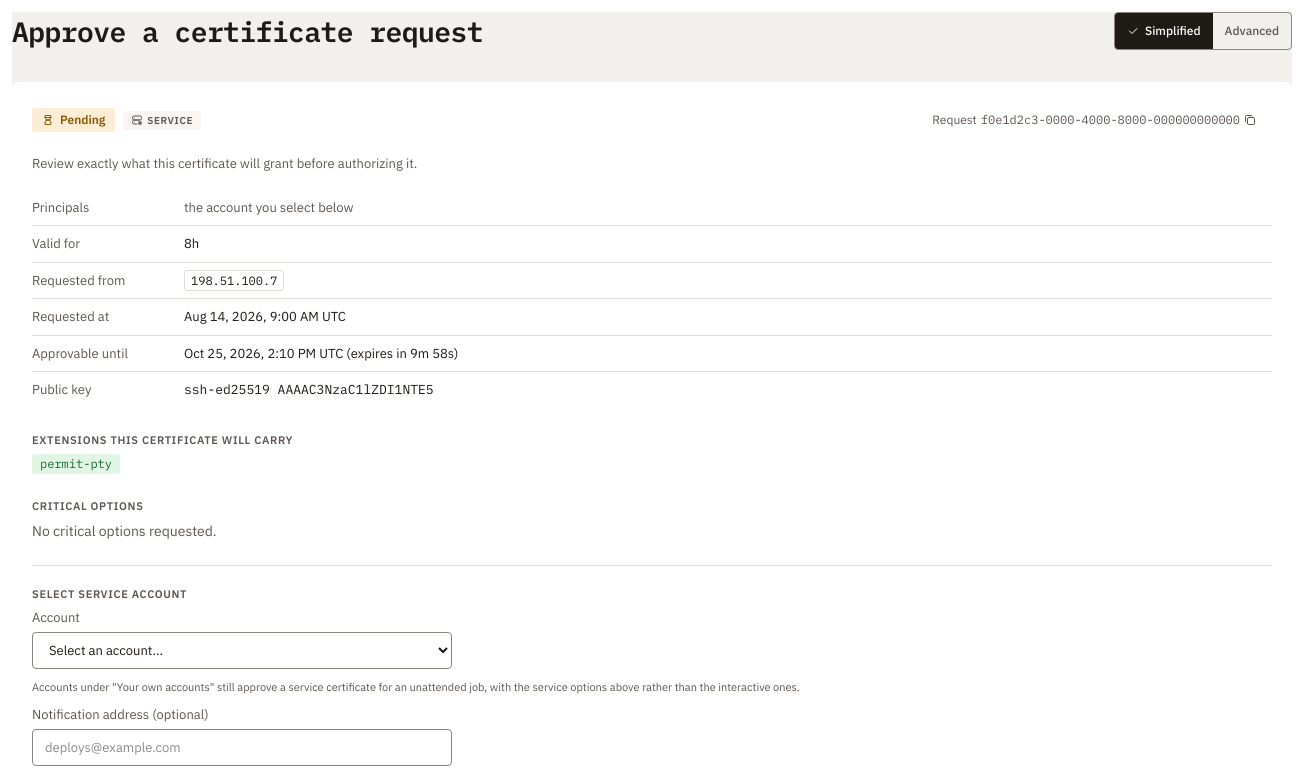
Test case: ApprovalView › service account picker › should say the certificate is not a login once an own account is chosen
This screenshot has width=1304, height=772.
Select "alice" in the dropdown at (242,650), box [32,632,452,668]
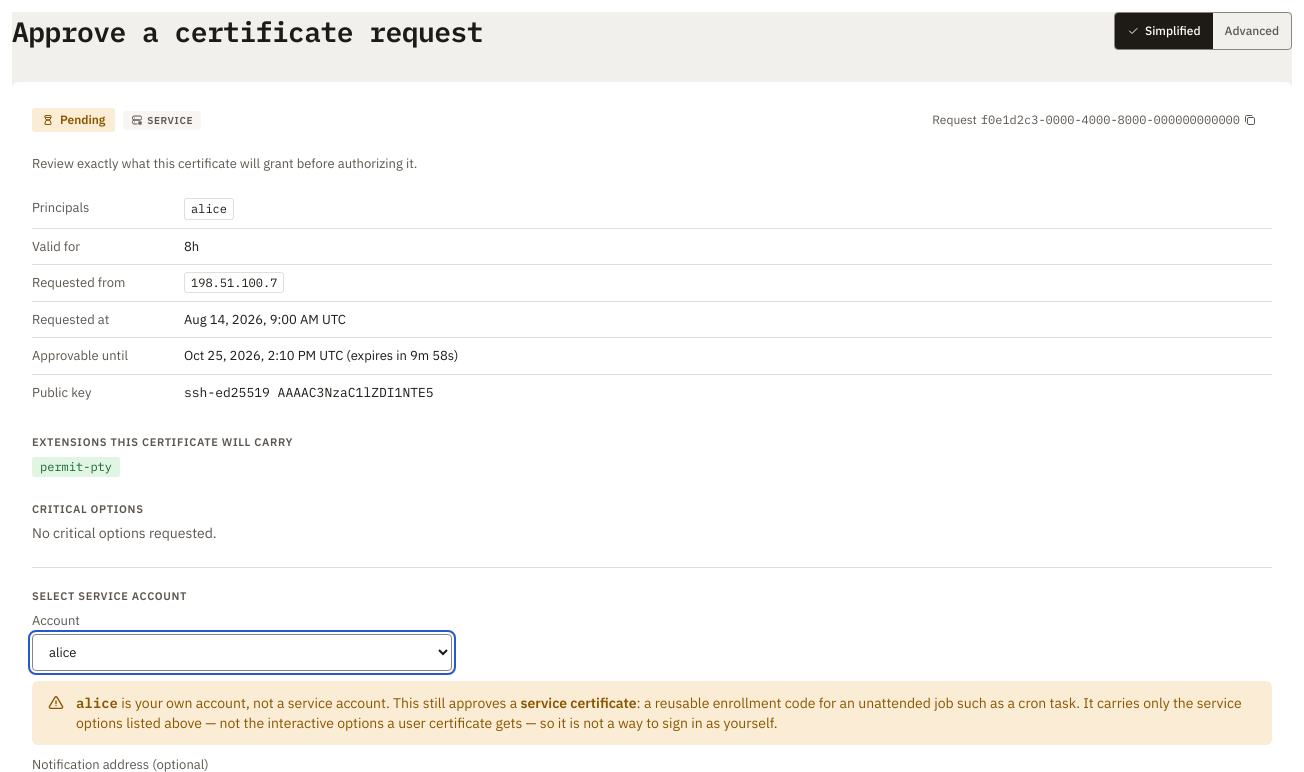
Now the message with test id "own-account-notice" shows "not a way to sign in as yourself", box [76,694,1242,732]
Now the message with test id "own-account-notice" shows "service certificate", box [520,694,636,712]
